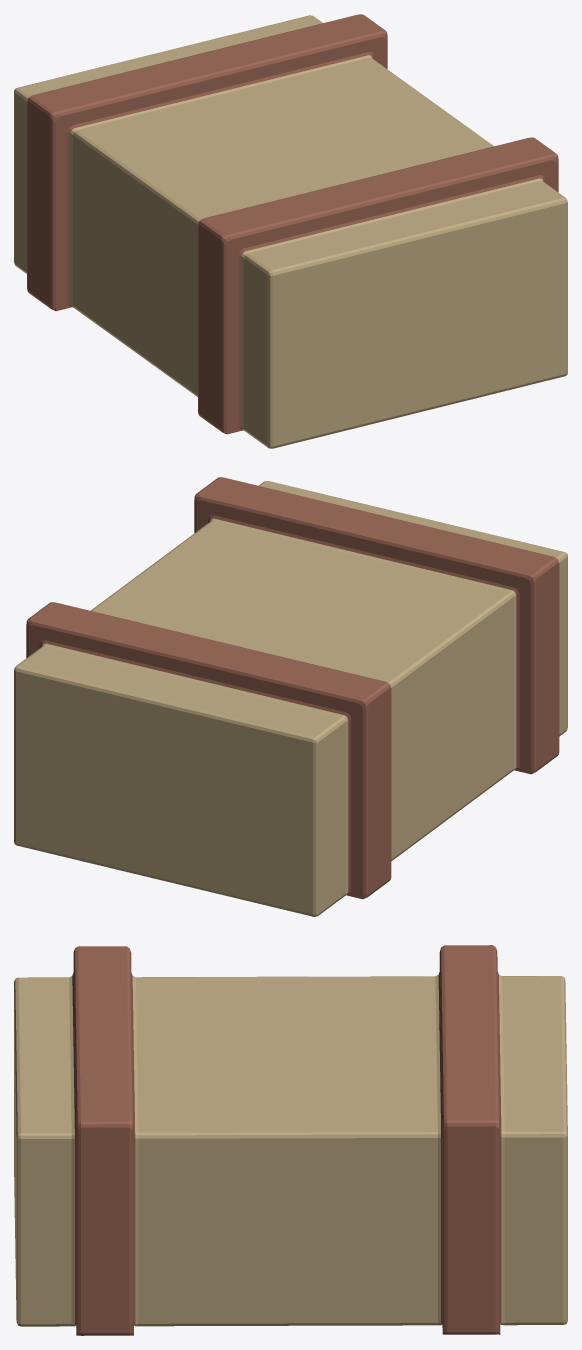
3 renders of one model, top to bottom at view 1: azimuth 30°, elevation 25°; view 2: azimuth 150°, elevation 25°; view 3: azimuth 270°, elevation 25°, orthographic. The views are drawn at different scales.
Parts seen in each view (by area): view 1: kutu; view 2: kutu; view 3: kutu.
Boxes of the visible parts, <box> form: kutu: <box>14,14,567,448</box>; kutu: <box>14,477,567,916</box>; kutu: <box>14,945,567,1335</box>.
Bounding box in the file's own units: 0.2382 × 0.1322 × 0.3096.
